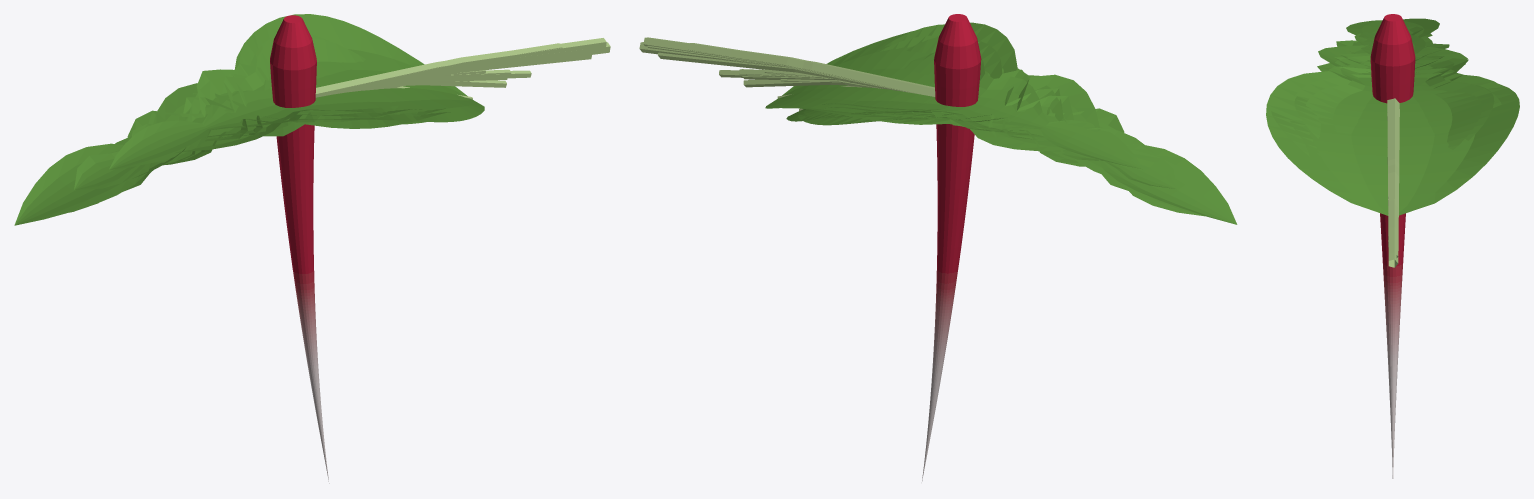
File: radish_harvest_v15.articulated.glb
3 views of the same model, side by side, from view 1: azimuth 30°, elevation 25°; view 2: azimuth 150°, elevation 25°; view 3: azimuth 270°, elevation 25° (orthographic). The views are drawn at different scales.
Parts seen in each view (by area): view 1: leaf04_link2, root, leaf05_link2, leaf06_link2, leaf02_link2, leaf04_link0, leaf00_link2, leaf03_link2, leaf00_link0, leaf05_link0, leaf01_link2, leaf04_link1; view 2: leaf04_link2, root, leaf05_link2, leaf02_link2, leaf06_link2, leaf00_link2, leaf05_link0, leaf00_link0, leaf03_link0, leaf03_link2, leaf01_link2, leaf03_link1 (+1 smaller); view 3: leaf04_link2, root, leaf05_link2, leaf02_link2, leaf06_link2, leaf00_link2, leaf05_link0, leaf03_link2, leaf01_link2, leaf00_link0.
Part boxes in pixels (x1=…): leaf04_link2: x1=14, y1=14, x2=484, y2=225; root: x1=270, y1=15, x2=329, y2=483; leaf05_link2: x1=109, y1=38, x2=399, y2=169; leaf06_link2: x1=70, y1=37, x2=450, y2=212; leaf02_link2: x1=74, y1=34, x2=385, y2=189; leaf04_link0: x1=315, y1=42, x2=610, y2=97; leaf00_link2: x1=115, y1=47, x2=445, y2=178; leaf03_link2: x1=123, y1=35, x2=425, y2=191; leaf00_link0: x1=316, y1=38, x2=606, y2=94; leaf05_link0: x1=315, y1=43, x2=561, y2=93; leaf01_link2: x1=176, y1=62, x2=421, y2=161; leaf04_link1: x1=382, y1=70, x2=531, y2=88; leaf04_link2: x1=765, y1=22, x2=1237, y2=224; root: x1=922, y1=14, x2=981, y2=481; leaf05_link2: x1=822, y1=52, x2=1142, y2=169; leaf02_link2: x1=825, y1=41, x2=1177, y2=189; leaf06_link2: x1=798, y1=24, x2=1204, y2=216; leaf00_link2: x1=804, y1=35, x2=1153, y2=179; leaf05_link0: x1=688, y1=43, x2=935, y2=96; leaf00_link0: x1=643, y1=37, x2=917, y2=93; leaf03_link0: x1=658, y1=52, x2=908, y2=92; leaf03_link2: x1=786, y1=68, x2=1128, y2=190; leaf01_link2: x1=893, y1=37, x2=1125, y2=187; leaf03_link1: x1=743, y1=79, x2=882, y2=88; leaf04_link2: x1=1266, y1=18, x2=1519, y2=215; root: x1=1370, y1=14, x2=1415, y2=478; leaf05_link2: x1=1306, y1=35, x2=1481, y2=149; leaf02_link2: x1=1295, y1=26, x2=1494, y2=140; leaf06_link2: x1=1271, y1=33, x2=1502, y2=156; leaf00_link2: x1=1290, y1=33, x2=1470, y2=156; leaf05_link0: x1=1387, y1=98, x2=1399, y2=230; leaf03_link2: x1=1334, y1=57, x2=1501, y2=107; leaf01_link2: x1=1294, y1=56, x2=1460, y2=138; leaf00_link0: x1=1387, y1=113, x2=1399, y2=260.
Bounding box in the file's own units: 0.3231 × 0.2465 × 0.126.
Materials: 1 (1 with a texture image).
